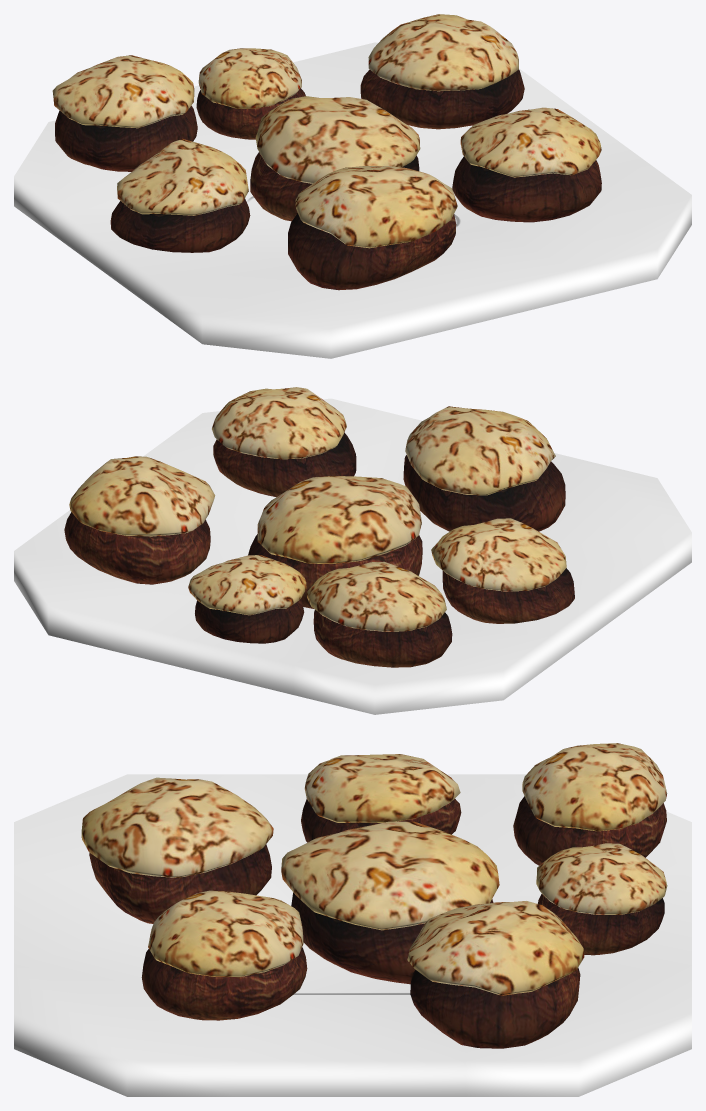
File: CrabMushrooms.fbx
The picture shows the model from 3 angles, top to bottom: view 1: azimuth 30°, elevation 25°; view 2: azimuth 150°, elevation 25°; view 3: azimuth 270°, elevation 25°; orthographic projection. The views are drawn at different scales.
Parts seen in each view (by area): view 1: polySurface8; view 2: polySurface8; view 3: polySurface8.
Boxes of the visible parts, <box> form: polySurface8: <box>14,14,691,358</box>; polySurface8: <box>14,387,691,714</box>; polySurface8: <box>14,743,691,1096</box>.
Size of the model in its own units: 40.64 by 9.63 by 40.64.
Materials: 2 (2 with a texture image).
